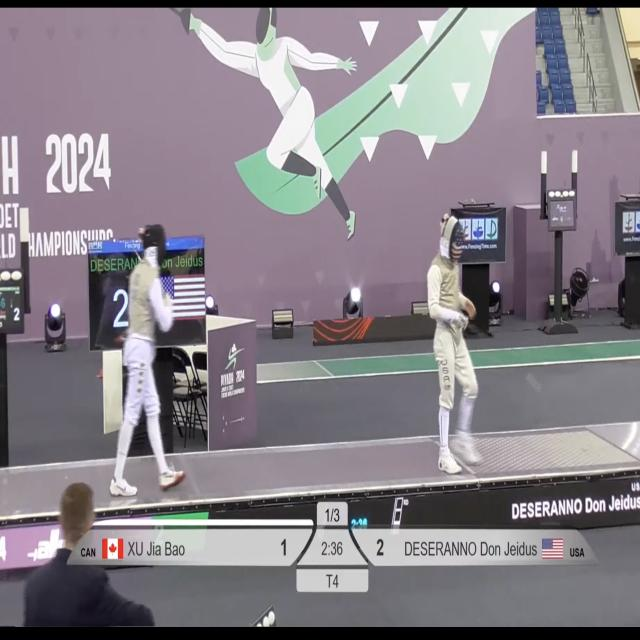fencer: (105, 203, 194, 501), (404, 201, 497, 478)
overlayLeft: (61, 529, 229, 566)
overlayRight: (395, 526, 599, 567)
scoreLeft: (257, 528, 313, 566)
scoreRight: (347, 526, 392, 569)
